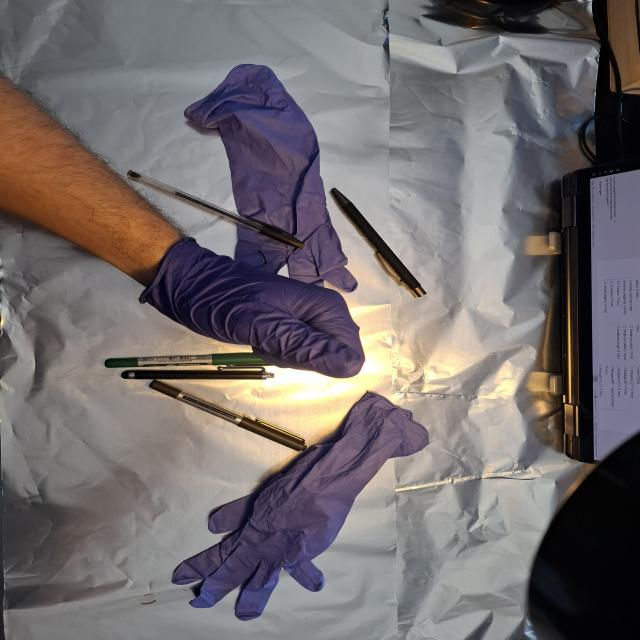glove_on: (145, 235, 370, 381)
